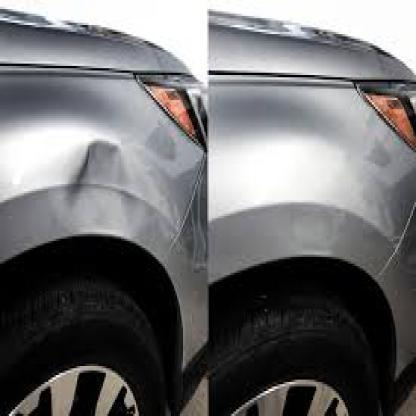dent: (70, 130, 132, 230)
